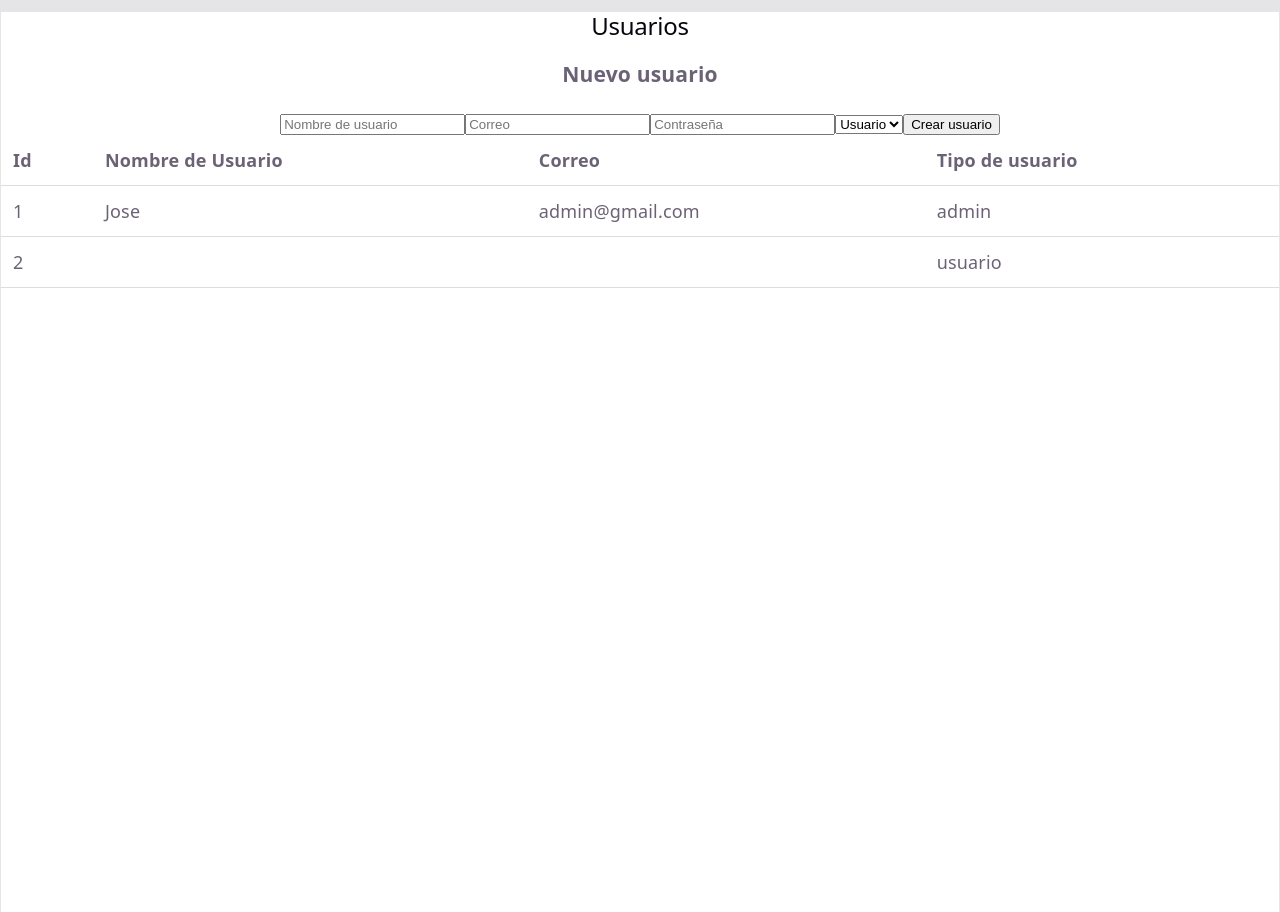
Scenario: UsuariosAdmin Component › muestra un error si se intenta crear un usuario con campos vacíos
Click the button "Crear usuario" at (952, 124), box [903,114,1000,134]
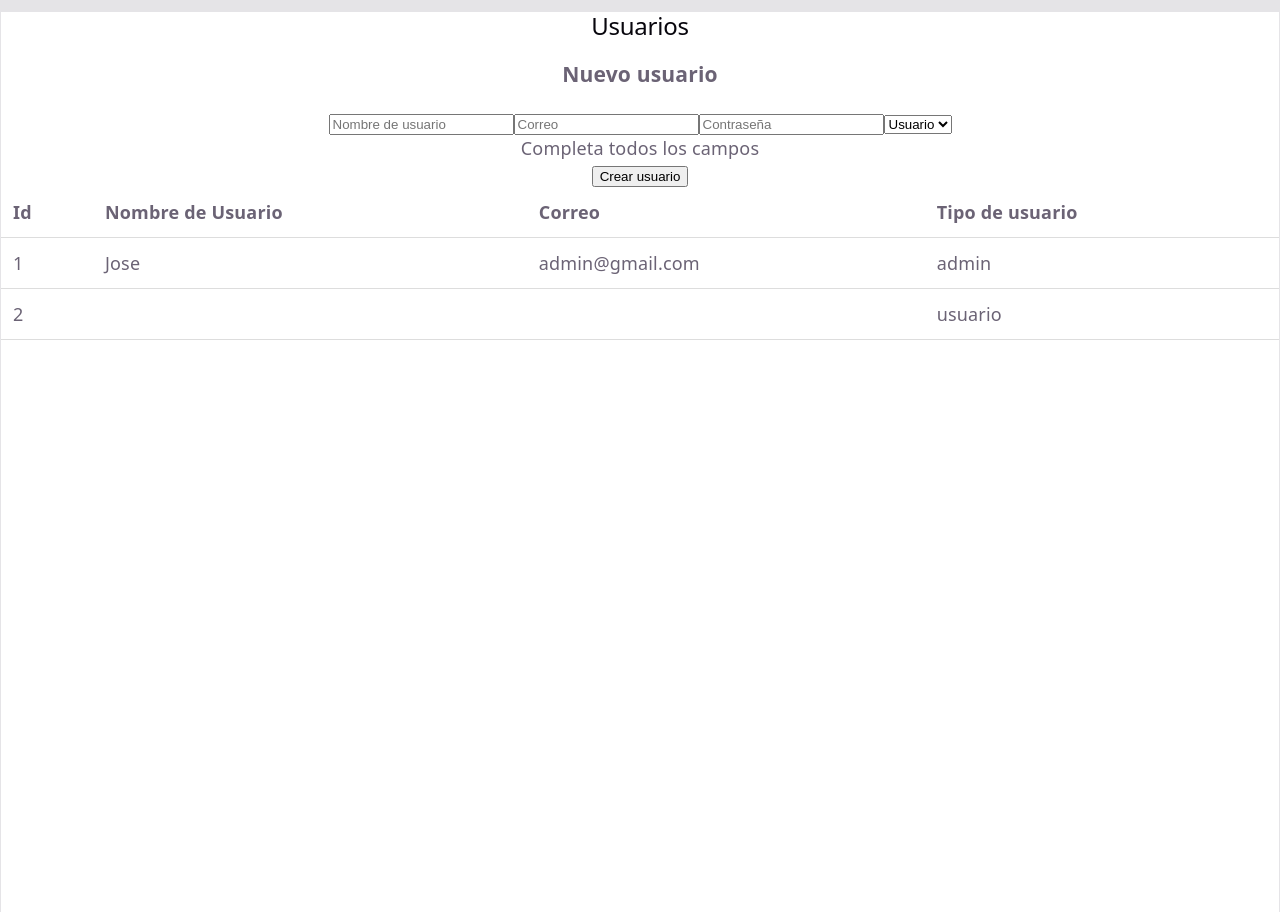
Result: the text "Completa todos los campos" is shown at [521,136,759,160]
